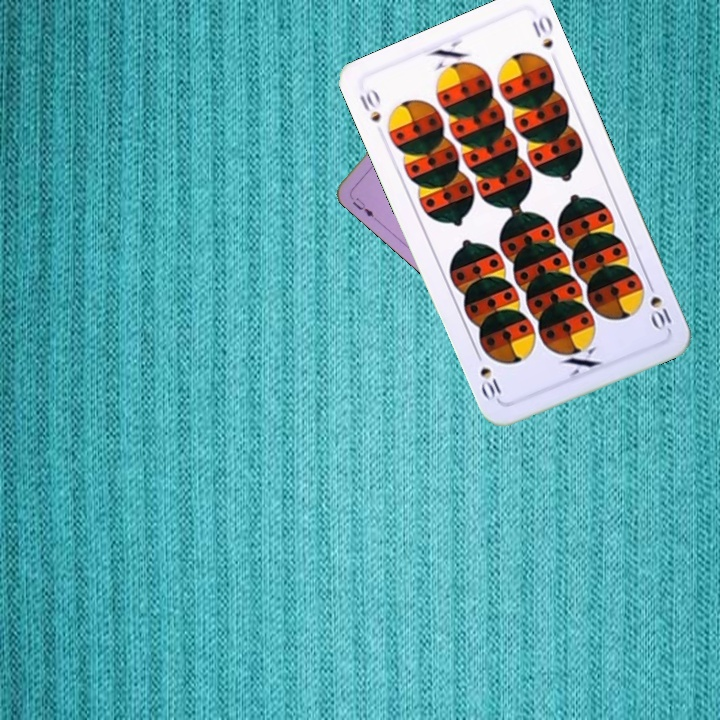EU: (348, 194, 380, 223)
S10: (643, 276, 674, 333), (355, 85, 384, 126)
